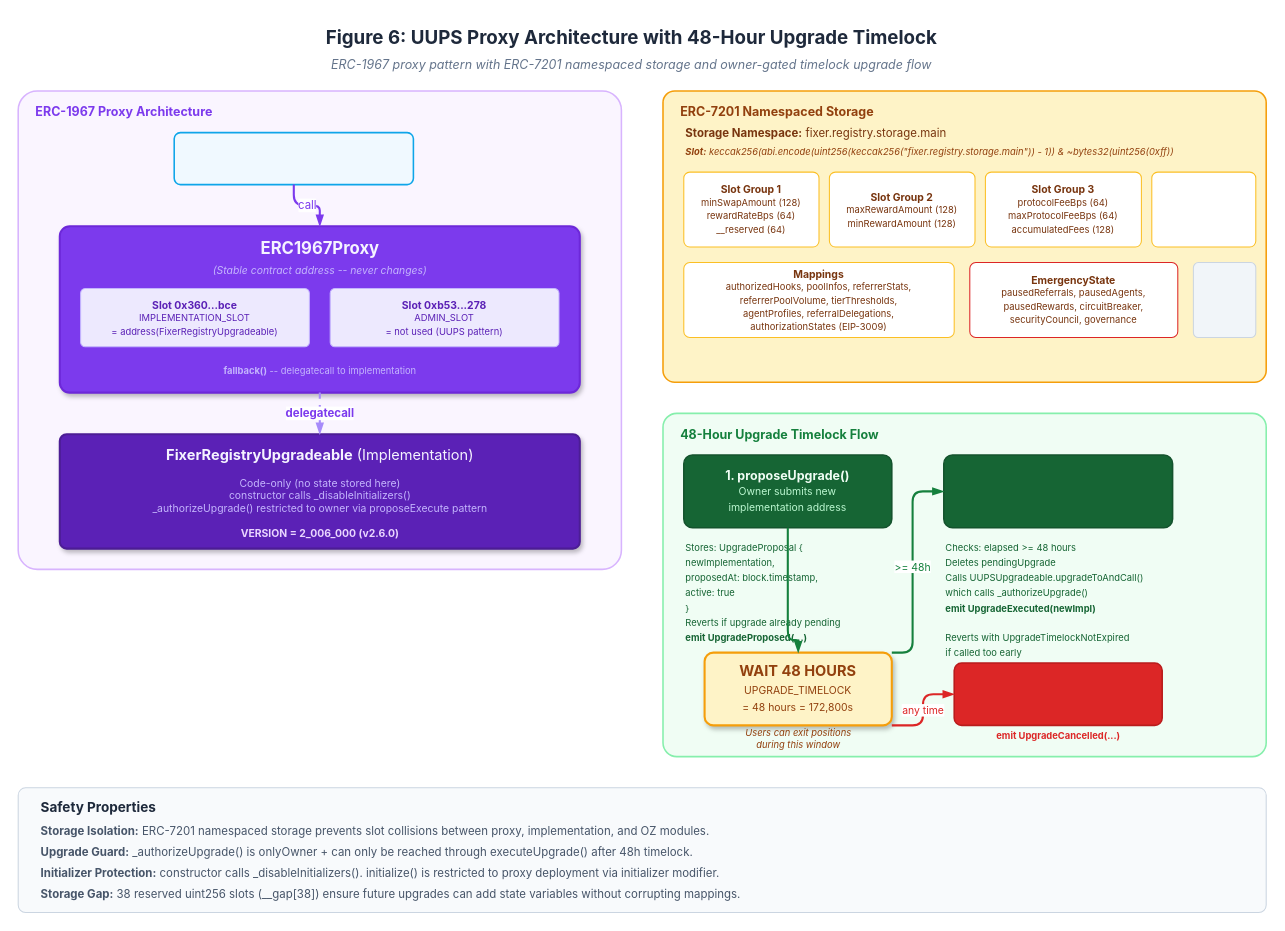
The diagram is 1285 pixels wide and 931 high, and some of its shapes have lost their labels. The centre of each missing label's shape, as x and y in pixels:
2a. executeUpgrade() After 48h: calls upgradeToAndCall(newImpl, ""): (1058,491)
2b. cancelUpgrade() Owner can abort at any time delete pendingUpgrade: (1058,694)
__gap[38] Reserved for future upgrades: (1224,299)
External Caller FixerHookV2, EOA, or Admin: (293,158)
Slot Group 4 hookCount (64) totalReferrals (64) totalVolume (128): (1203,209)
